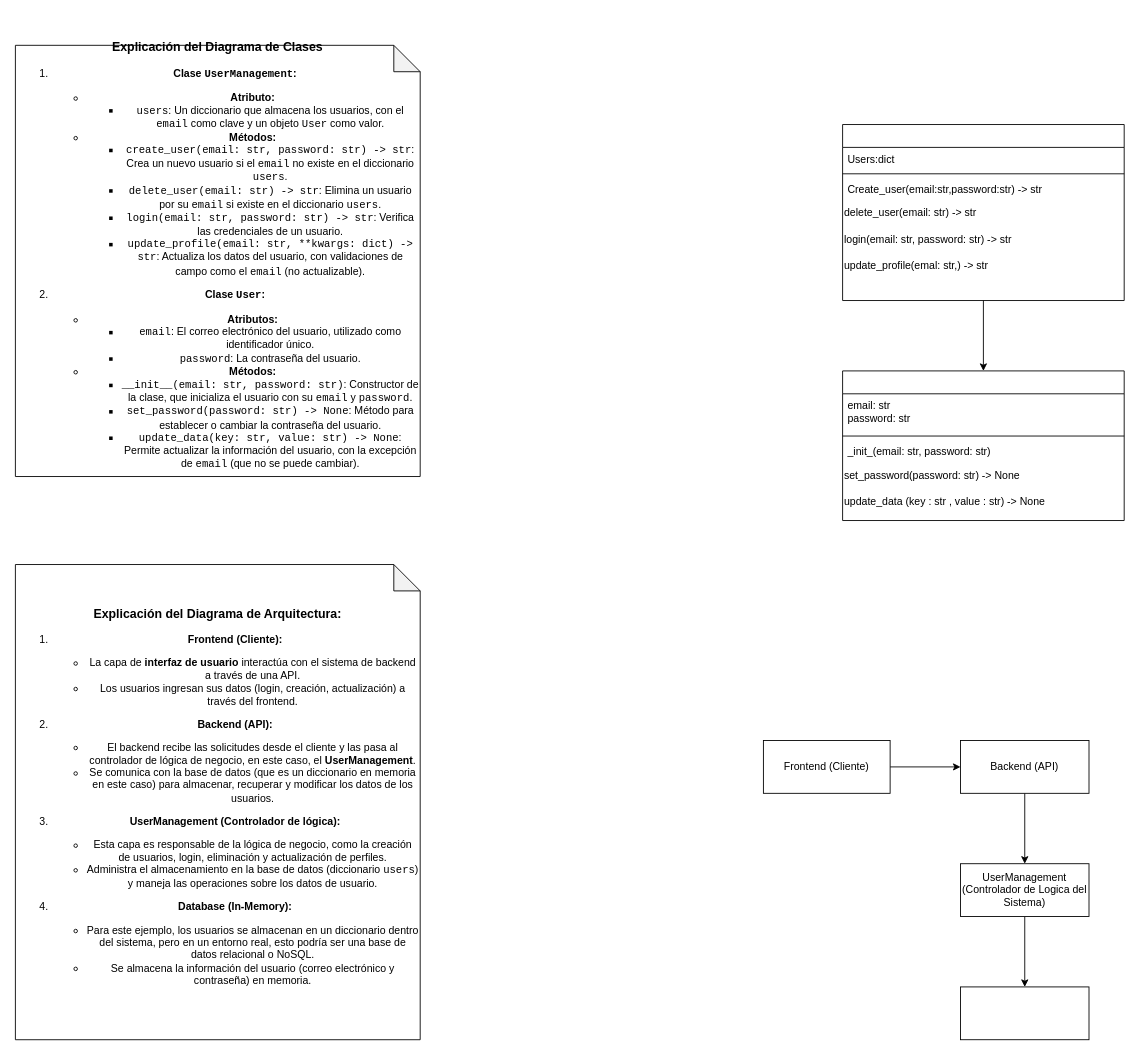
This 1140x1055 diagram has some shape labels left out. The shapes that lost their labels are listed below. From the top down, each one's box as (x1, y1, x2, y2) in pixels, then its label:
(842, 124, 1124, 301): UserManagement
(842, 370, 1124, 521): User
(960, 986, 1089, 1040): Database (In-Memory) User(users dict)
